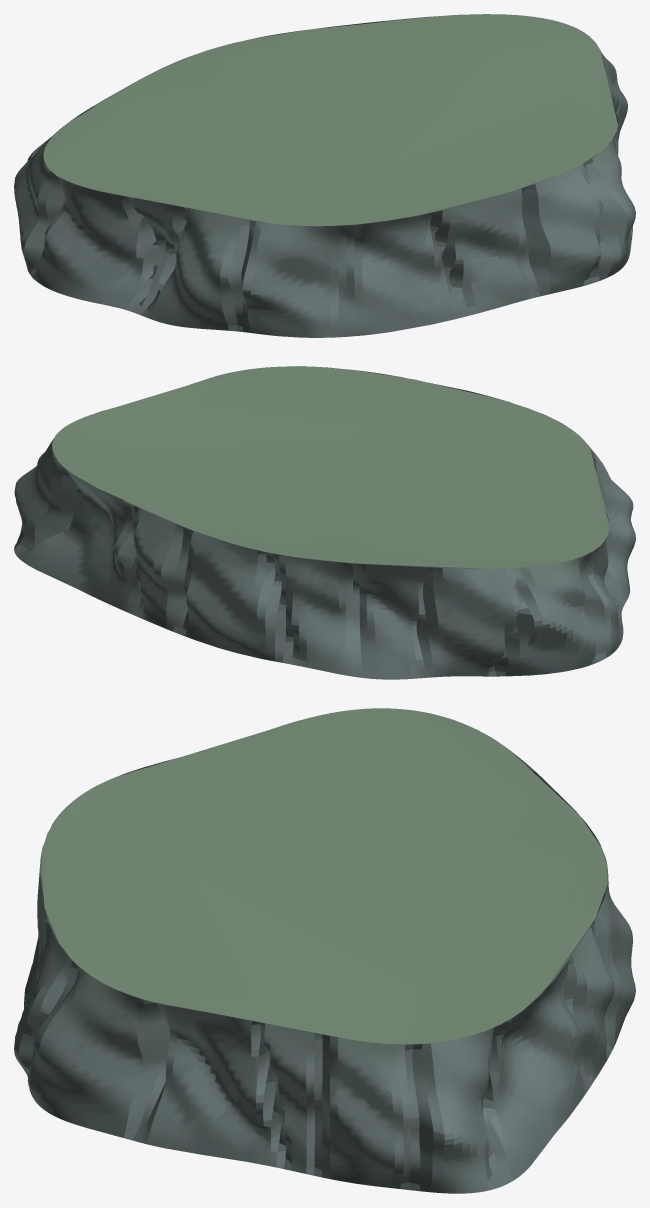
Rendered from coast_2.glb.
The picture shows the model from 3 angles, top to bottom: view 1: azimuth 30°, elevation 25°; view 2: azimuth 150°, elevation 25°; view 3: azimuth 270°, elevation 25°; orthographic projection. The views are drawn at different scales.
Parts seen in each view (by area): view 1: Mossed ruin bank; view 2: Mossed ruin bank; view 3: Mossed ruin bank.
Part boxes in pixels (x1,y1,x2,y2): Mossed ruin bank: (14,14,635,337); Mossed ruin bank: (14,366,635,679); Mossed ruin bank: (14,708,635,1193).
Size of the model in its own units: 28.69 by 4.89 by 20.49.
